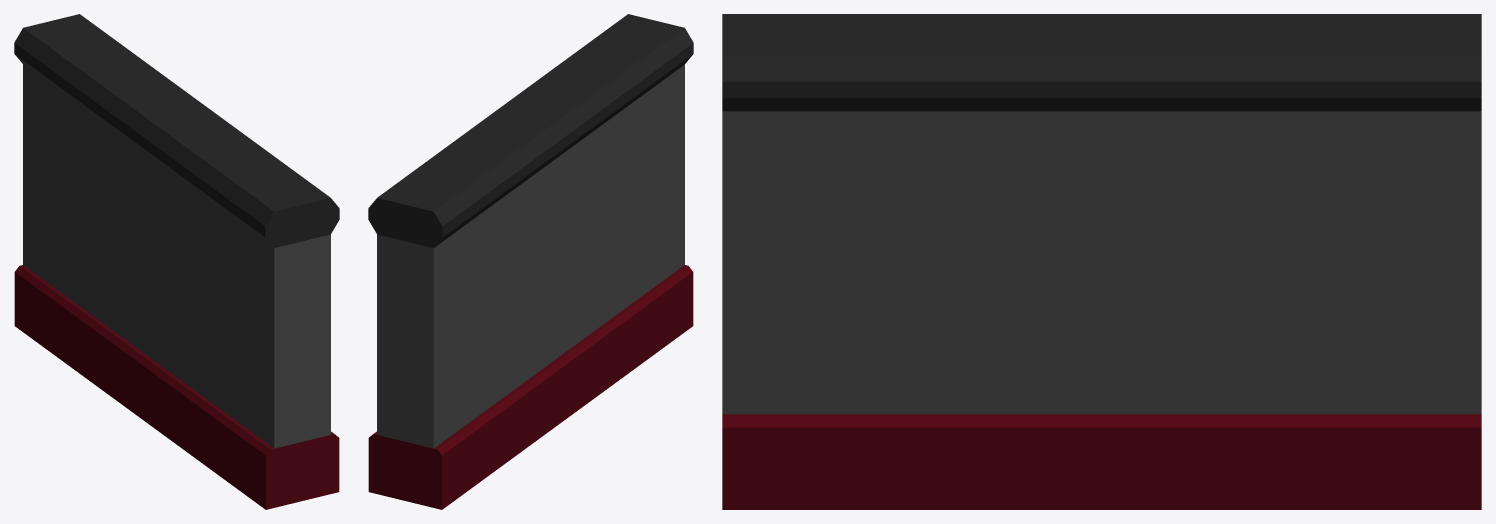
Rendered from Warehouse Wall.fbx.
The picture shows the model from 3 angles, left to right: view 1: azimuth 30°, elevation 25°; view 2: azimuth 150°, elevation 25°; view 3: azimuth 270°, elevation 25°; orthographic projection. The views are drawn at different scales.
Visible parts, largest first — view 1: Warehouse Wall; view 2: Warehouse Wall; view 3: Warehouse Wall.
Boxes of the visible parts, x1,y1,x2,y2 form: Warehouse Wall: (14,14,339,509); Warehouse Wall: (368,14,693,509); Warehouse Wall: (722,14,1481,509).
Bounding box in the file's own units: 1536 × 262 × 1000.
